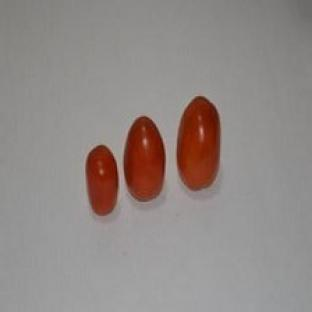Tomato: (177, 97, 221, 190), (124, 116, 165, 200), (85, 145, 118, 215)
